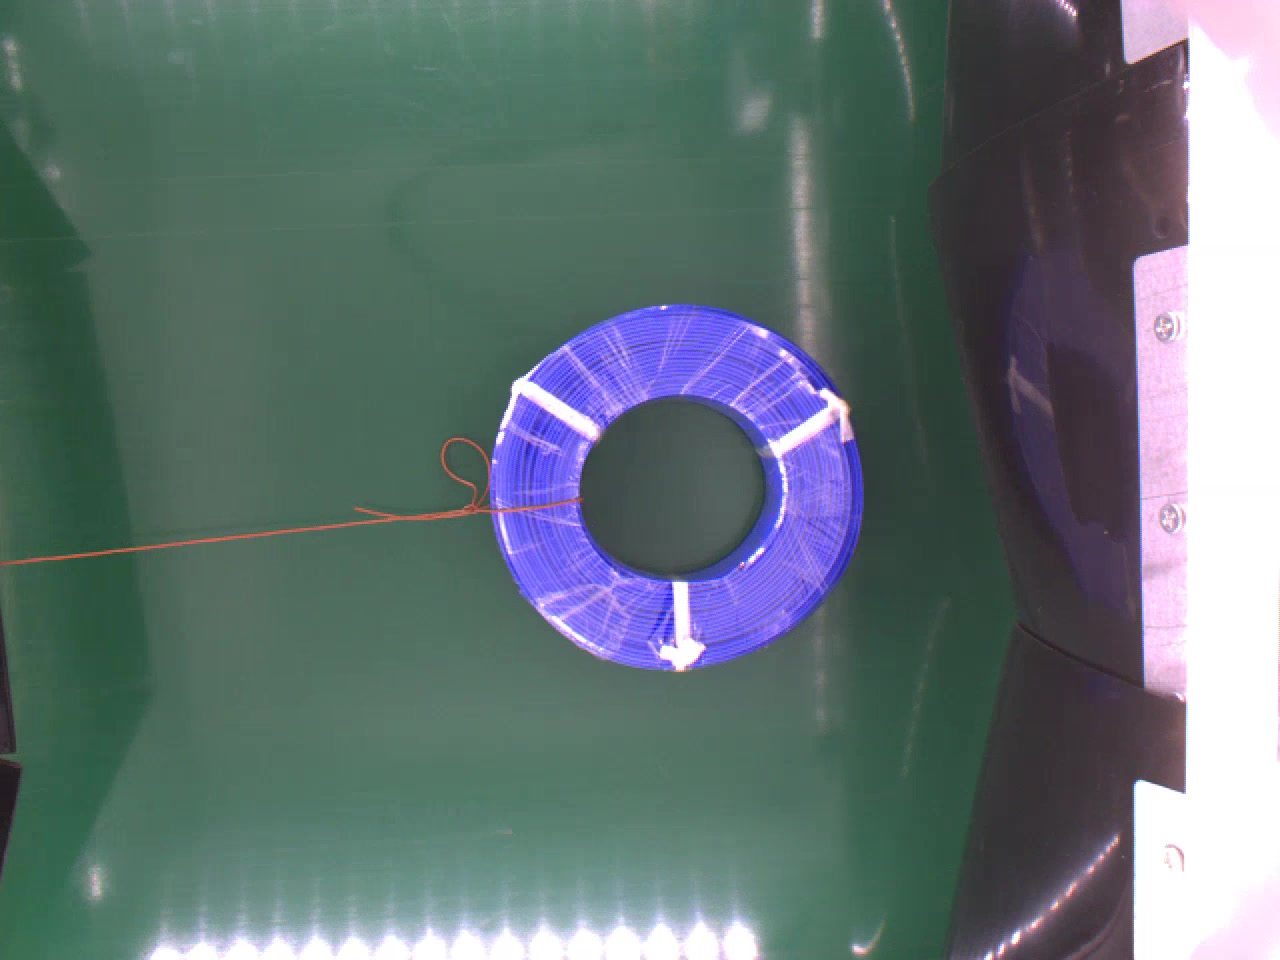blue: (488, 299, 860, 666)
